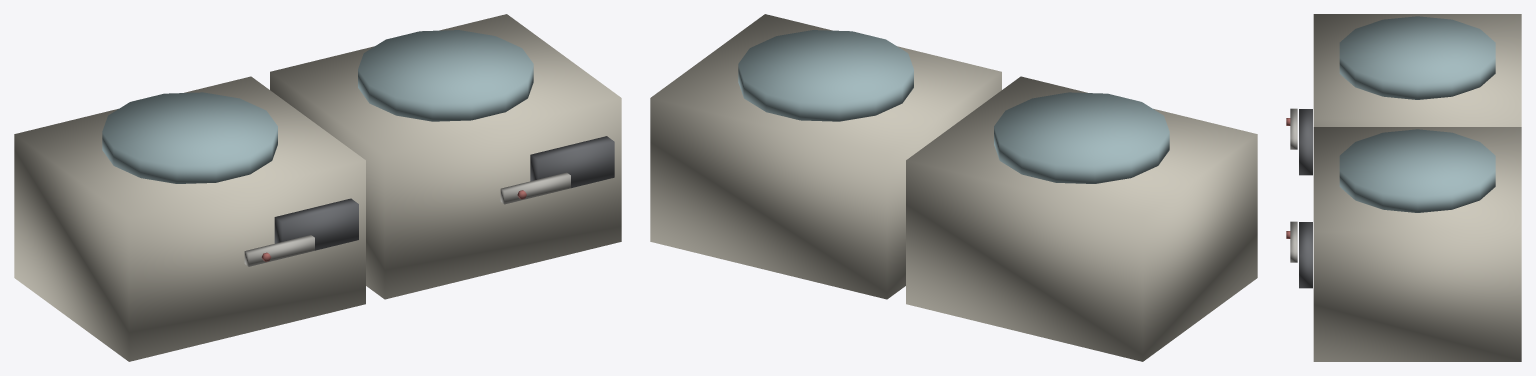
Rendered from centrifuge_bench_unit__cluster.glb.
3 renders of one model, left to right at view 1: azimuth 30°, elevation 25°; view 2: azimuth 150°, elevation 25°; view 3: azimuth 270°, elevation 25°, orthographic. The views are drawn at different scales.
Visible parts, largest first — view 1: world; view 2: world; view 3: world.
Part boxes in pixels (left/top/right/bottom): world: left=14, top=14, right=621, bottom=361; world: left=650, top=14, right=1257, bottom=361; world: left=1286, top=14, right=1521, bottom=361.
Bounding box in the file's own units: 1.29 × 0.405 × 0.5885.
